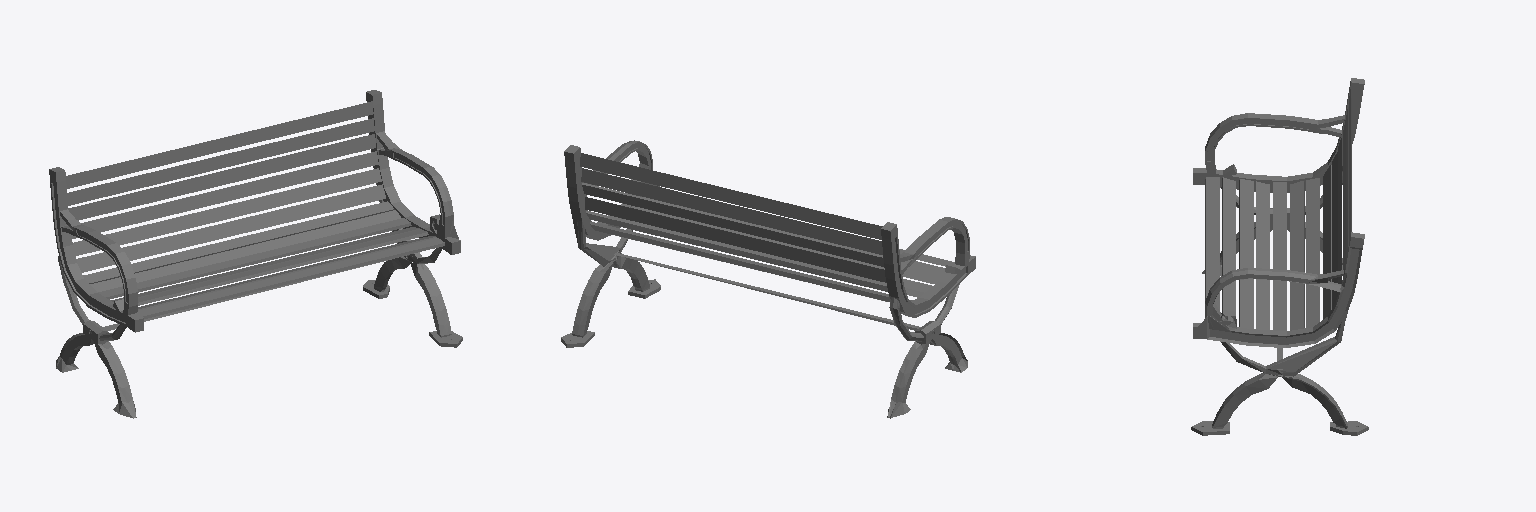
File: bench.obj
3 renders of one model, left to right at view 1: azimuth 30°, elevation 25°; view 2: azimuth 150°, elevation 25°; view 3: azimuth 270°, elevation 25°, orthographic.
Visible parts, largest first — view 1: Bench_LowRes_LoD_1; view 2: Bench_LowRes_LoD_1; view 3: Bench_LowRes_LoD_1.
Boxes of the visible parts, x1=… form: Bench_LowRes_LoD_1: x1=49, y1=90, x2=462, y2=418; Bench_LowRes_LoD_1: x1=561, y1=140, x2=975, y2=418; Bench_LowRes_LoD_1: x1=1191, y1=78, x2=1368, y2=435.
Bounding box in the file's own units: 3.7 × 2.06 × 1.69.